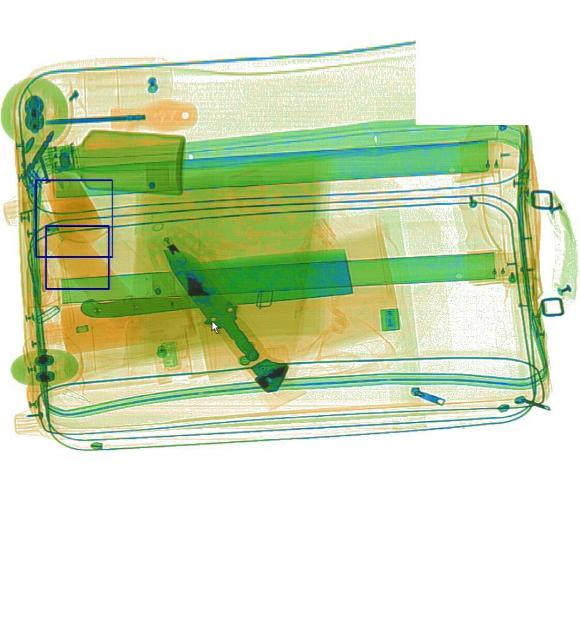Knife: (76, 247, 352, 321), (154, 232, 266, 370)
